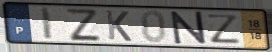0: (138, 9, 169, 45)
I: (39, 7, 55, 42)
K: (104, 9, 134, 43)
N: (169, 10, 209, 46)
Z: (63, 7, 103, 42), (205, 13, 242, 45)
